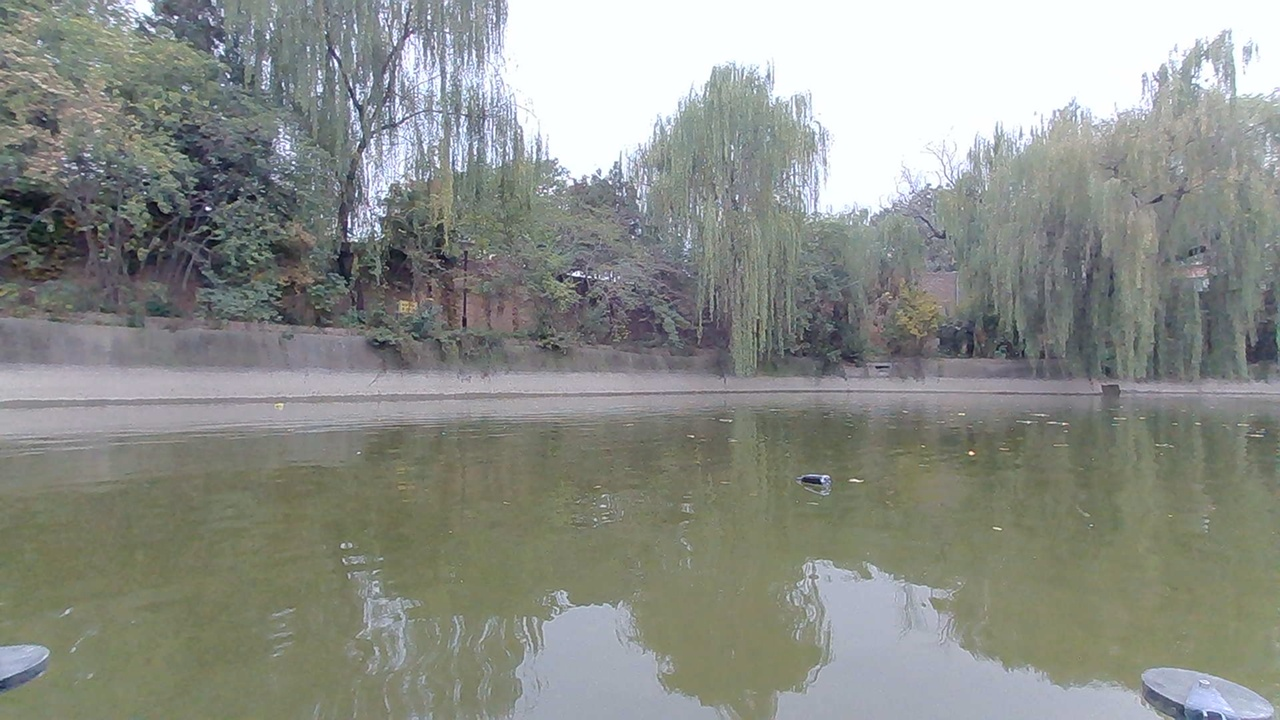bottle: (791, 463, 845, 497)
